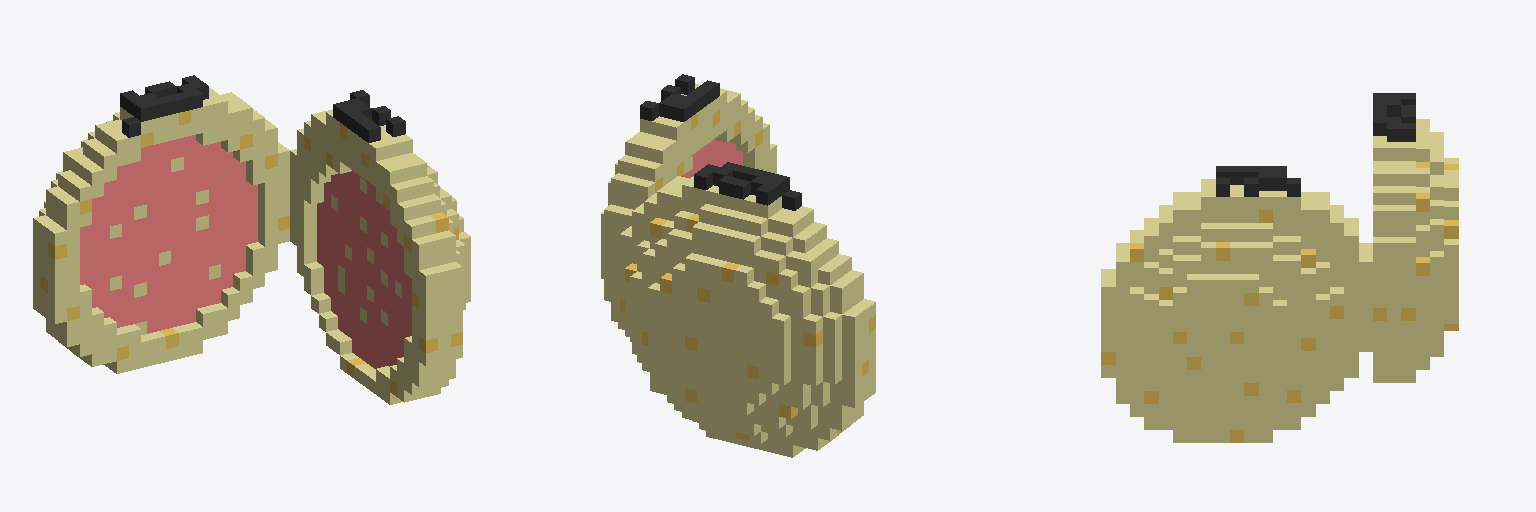
The picture shows the model from 3 angles: view 1: azimuth 30°, elevation 25°; view 2: azimuth 150°, elevation 25°; view 3: azimuth 270°, elevation 25°; orthographic projection.
Visible parts, largest first — view 1: object 1; view 2: object 1; view 3: object 1.
Boxes of the visible parts, box(x1,y1,x2,y2) form: object 1: box(33, 75, 470, 404); object 1: box(601, 74, 875, 457); object 1: box(1101, 93, 1458, 442).
Bounding box in the file's own units: 2.5 × 2 × 2.5.
Materials: 1 (1 with a texture image).